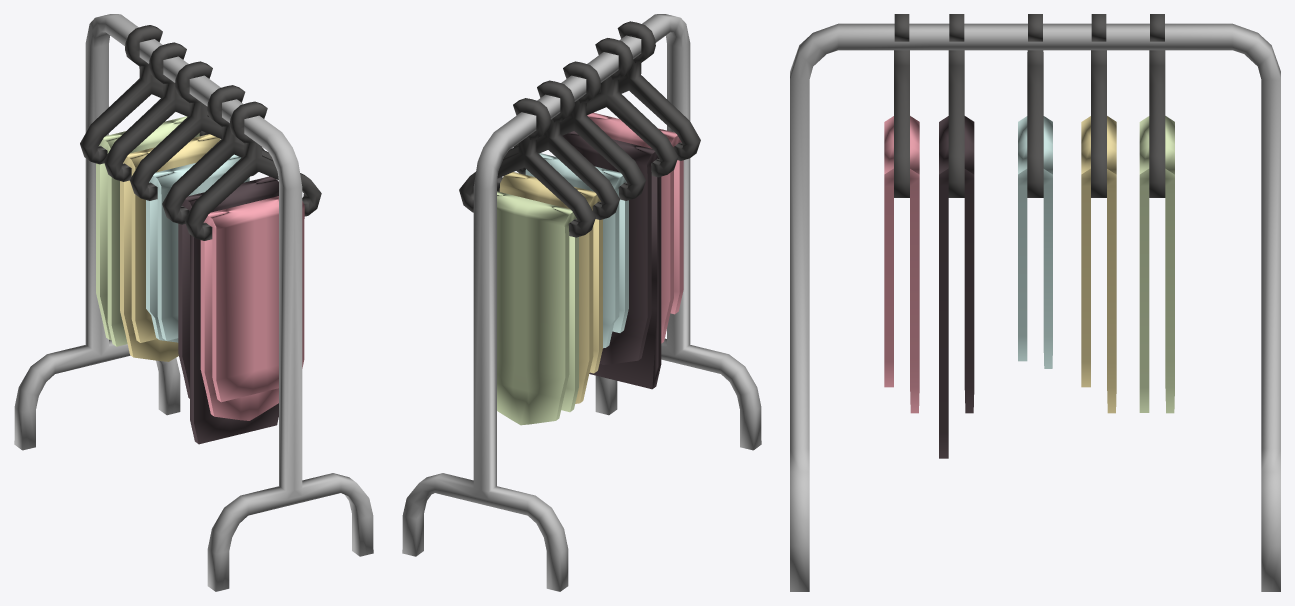
File: ClothesHanger.fbx
The picture shows the model from 3 angles, left to right: view 1: azimuth 30°, elevation 25°; view 2: azimuth 150°, elevation 25°; view 3: azimuth 270°, elevation 25°; orthographic projection. The views are drawn at different scales.
Parts seen in each view (by area): view 1: Cube.001; view 2: Cube.001; view 3: Cube.001.
Boxes of the visible parts, <box> form: Cube.001: <box>14,14,373,591</box>; Cube.001: <box>402,14,761,591</box>; Cube.001: <box>790,14,1280,591</box>.
Size of the model in its own units: 1.37 by 3.59 by 3.02.
